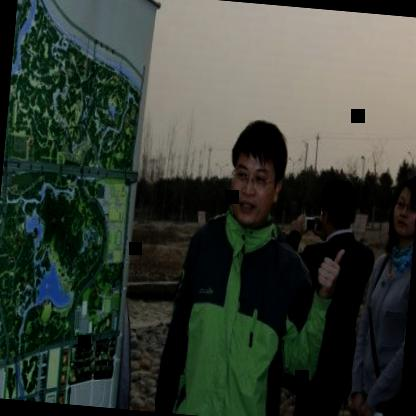head: (221, 111, 293, 233), (316, 169, 360, 240), (385, 165, 416, 246)
